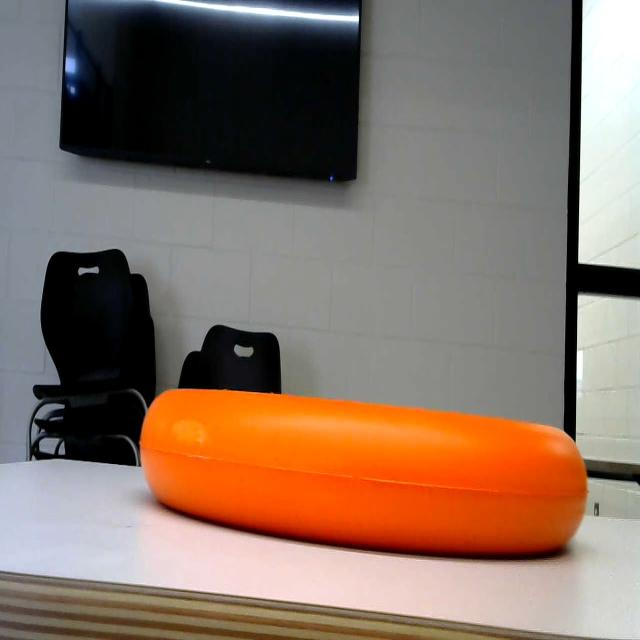note: (123, 376, 604, 568)
